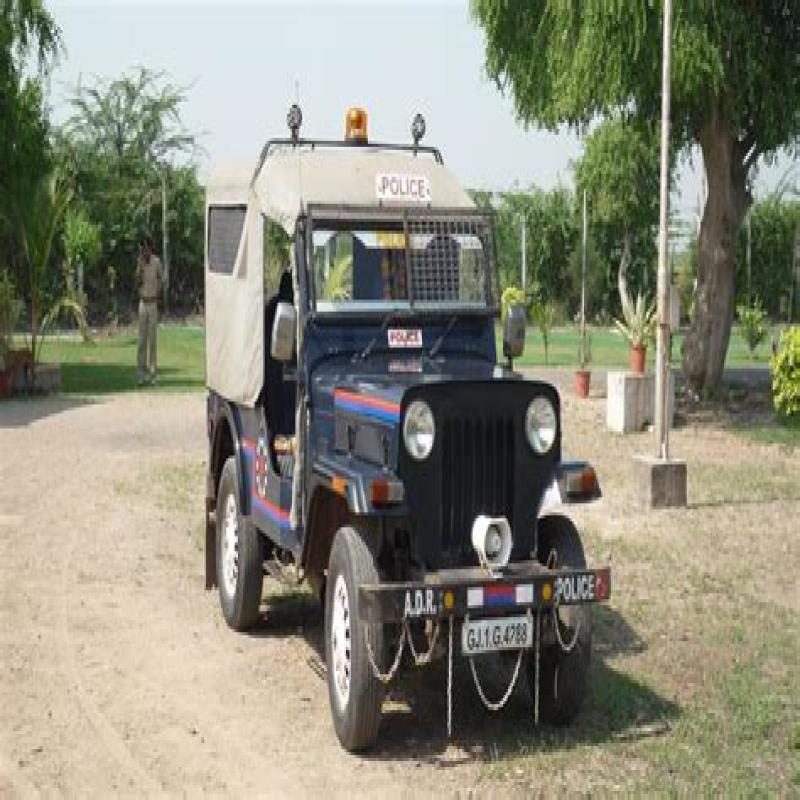AmbulanceSiren: (327, 95, 368, 162)
